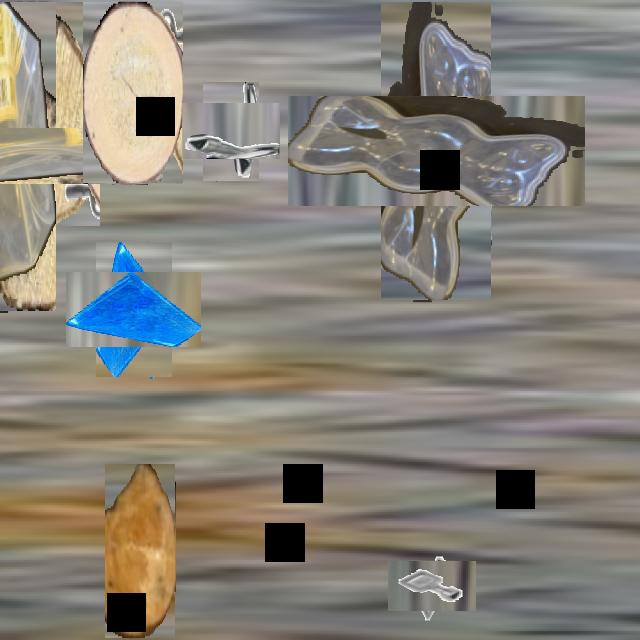glass: (81, 257, 187, 362)
metal: (50, 2, 112, 112), (192, 93, 270, 170), (397, 552, 467, 621)
plastic: (334, 49, 538, 253), (0, 65, 119, 247)
wood: (0, 2, 100, 226), (83, 2, 183, 183), (105, 464, 175, 638)
